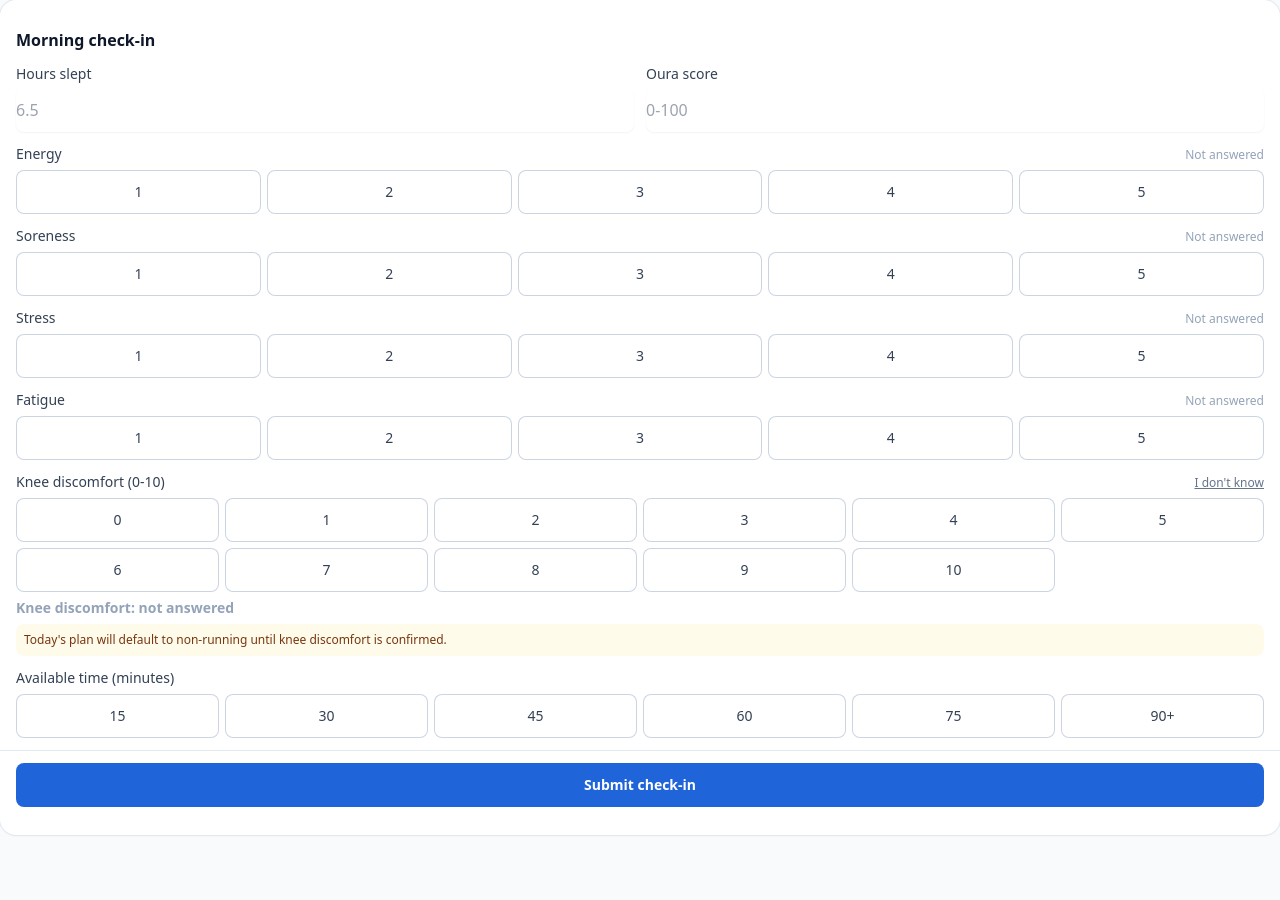
Test: requirement 3: selecting a score displays the matching definition › Energy = 5 reads as Selected: 5, Excellent
Click the 1st radio button labelled "5" at (1142, 192), box x1=1019 y1=170 x2=1264 y2=214
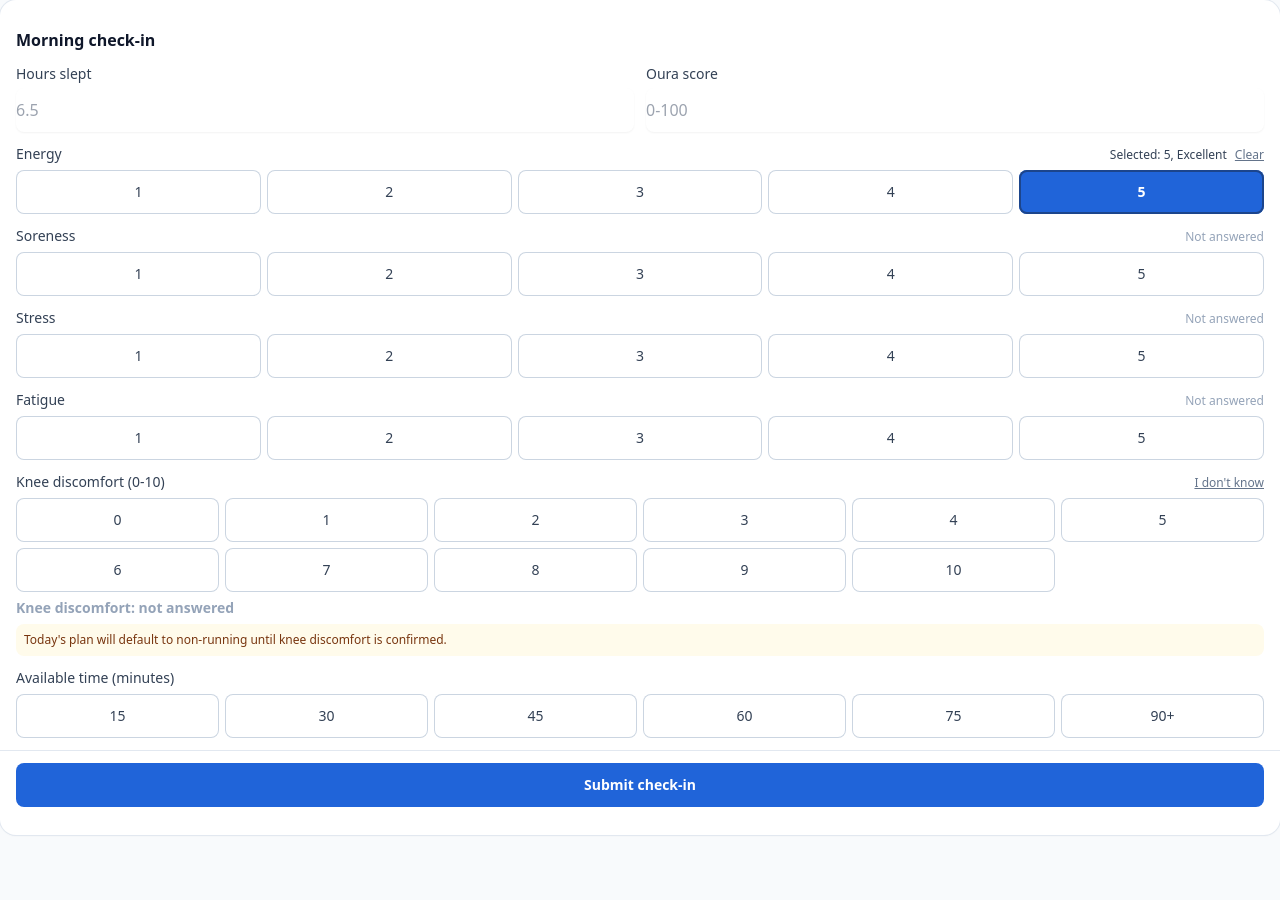
Expected: the text "Selected: 5, Excellent" is shown, x1=1110 y1=147 x2=1227 y2=163
